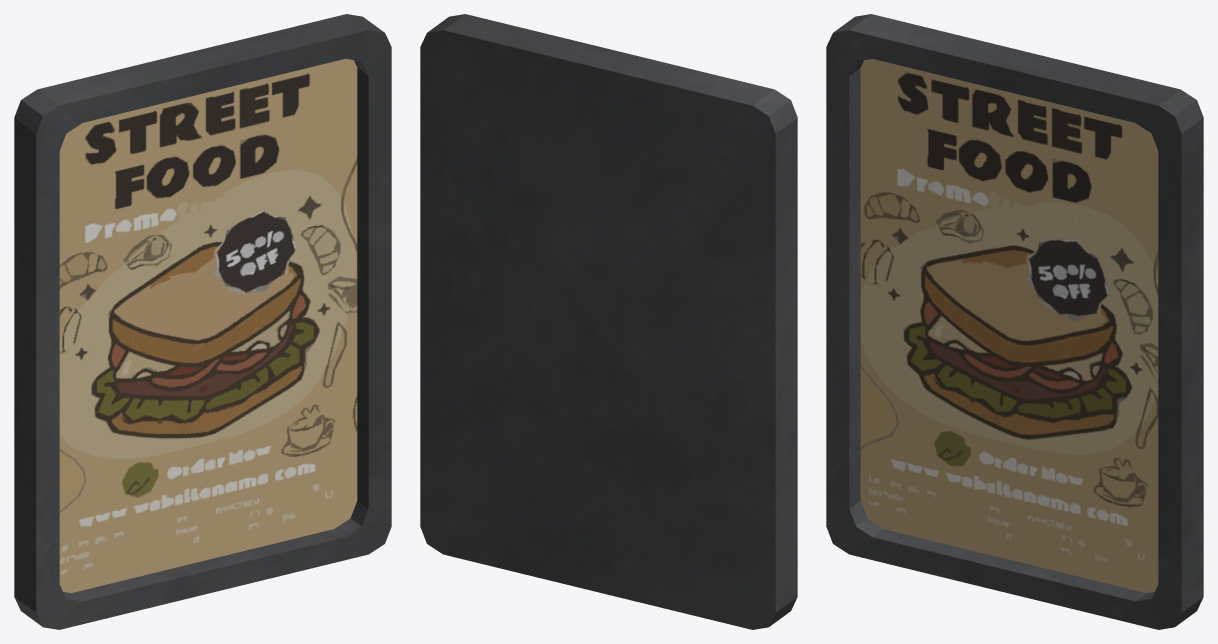
File: Poster.fbx
3 views of the same model, side by side, from view 1: azimuth 30°, elevation 25°; view 2: azimuth 150°, elevation 25°; view 3: azimuth 330°, elevation 25° (orthographic).
Visible parts, largest first — view 1: Cube.003; view 2: Cube.003; view 3: Cube.003.
Boxes of the visible parts, x1,y1,x2,y2 form: Cube.003: (14,14,391,629); Cube.003: (420,14,797,629); Cube.003: (826,14,1203,629).
Bounding box in the file's own units: 92.57 × 130 × 10.
